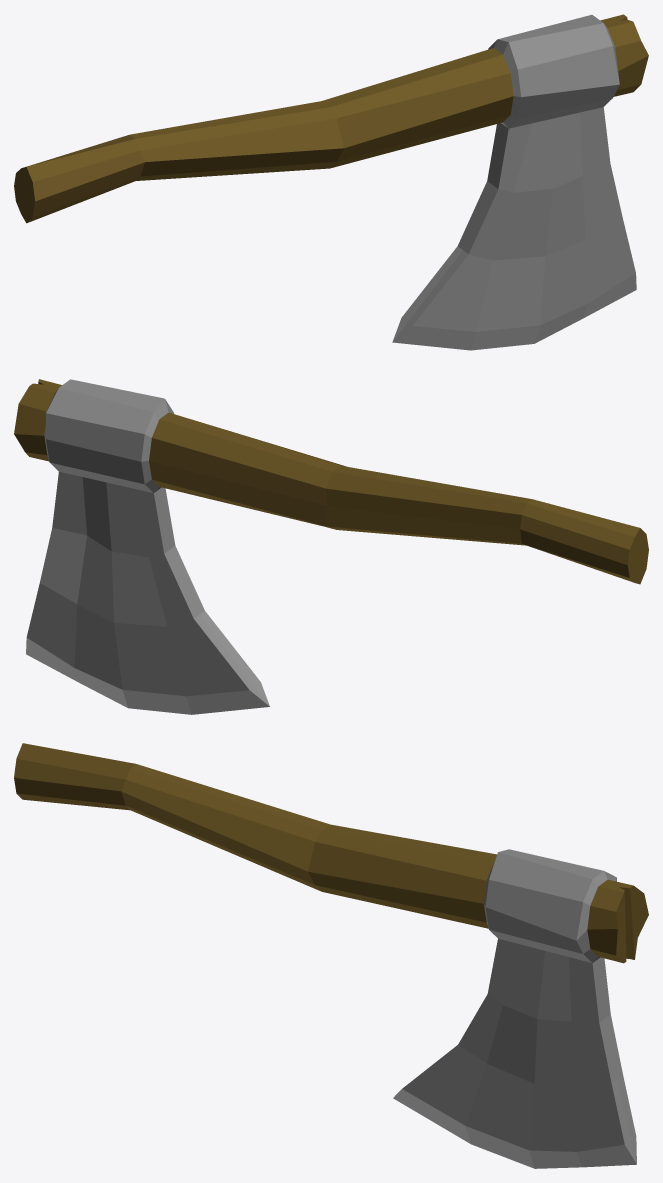
3 renders of one model, top to bottom at view 1: azimuth 30°, elevation 25°; view 2: azimuth 150°, elevation 25°; view 3: azimuth 330°, elevation 25°, orthographic.
Visible parts, largest first — view 1: Cylinder; view 2: Cylinder; view 3: Cylinder.
Boxes of the visible parts, x1=… form: Cylinder: x1=14, y1=14, x2=648, y2=350; Cylinder: x1=14, y1=379, x2=648, y2=714; Cylinder: x1=14, y1=743, x2=648, y2=1168.
Bounding box in the file's own units: 220 × 107 × 25.19.
